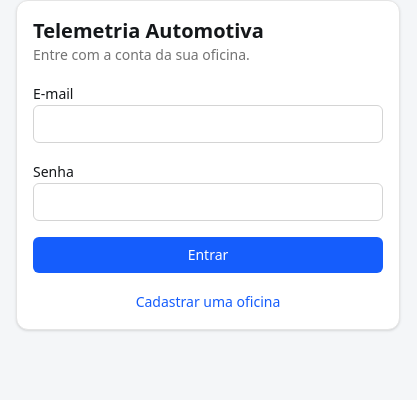
Test case: credenciais inválidas mostram a mensagem da API e não navegam
Type "a@b.com" into the field labelled "E-mail".
click(208, 124); type("a@b.com")  # box [33,105,383,143]
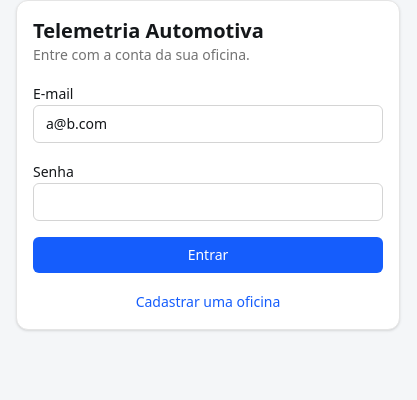
Type "errada-errada" into the password field labelled "Senha".
click(208, 202); type("errada-errada")  # box [33,183,383,221]
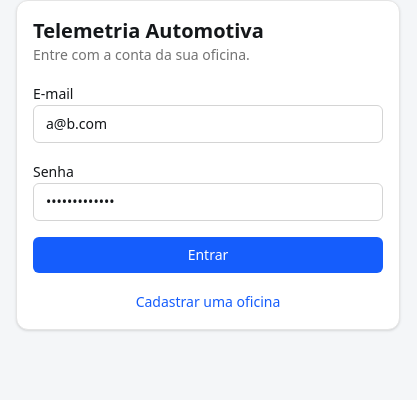
Submit the form "Entrar"
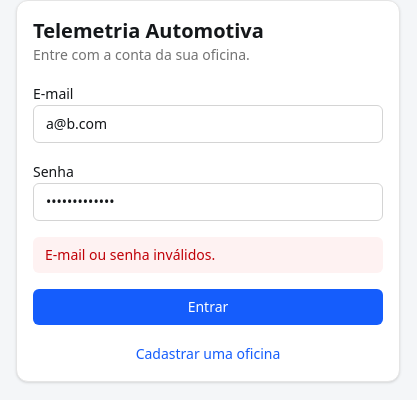
Check: the message reads "E-mail ou senha inválidos.", box [45,245,215,264]
